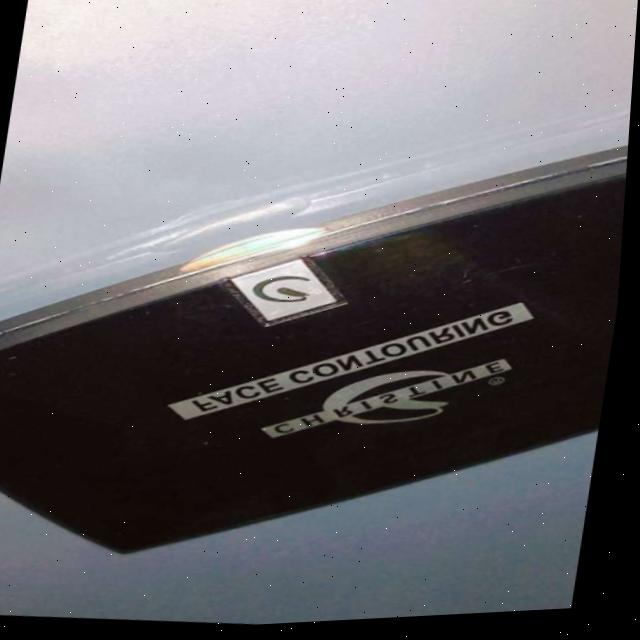concealer: (0, 125, 632, 617)
